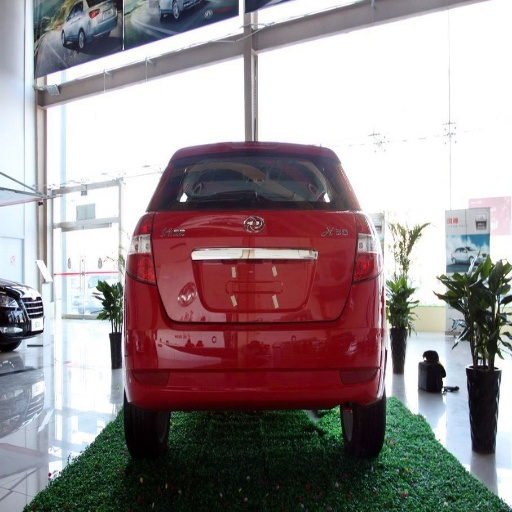back_bumper: (125, 276, 386, 410)
trunk: (156, 212, 366, 355)
